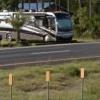Bus: (4, 5, 75, 45)
